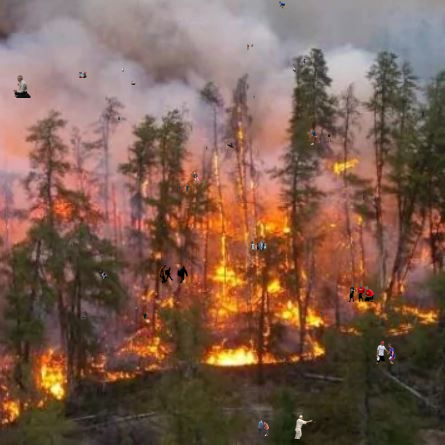Human: (160, 264, 188, 283), (294, 415, 316, 439), (245, 236, 280, 251), (347, 284, 375, 302), (376, 341, 396, 364), (307, 128, 332, 145), (13, 75, 31, 98), (258, 420, 269, 436), (99, 270, 110, 280), (178, 183, 189, 192), (363, 194, 376, 200), (77, 71, 87, 78), (138, 312, 147, 319), (82, 310, 88, 320), (193, 172, 199, 182), (227, 143, 237, 149), (247, 44, 254, 51), (279, 1, 285, 9), (421, 111, 425, 117), (131, 81, 136, 85), (303, 59, 306, 65), (118, 116, 121, 122), (320, 312, 323, 317), (43, 123, 47, 126), (135, 307, 138, 311), (122, 67, 124, 73), (253, 93, 255, 99), (293, 68, 296, 72), (206, 146, 208, 151)
